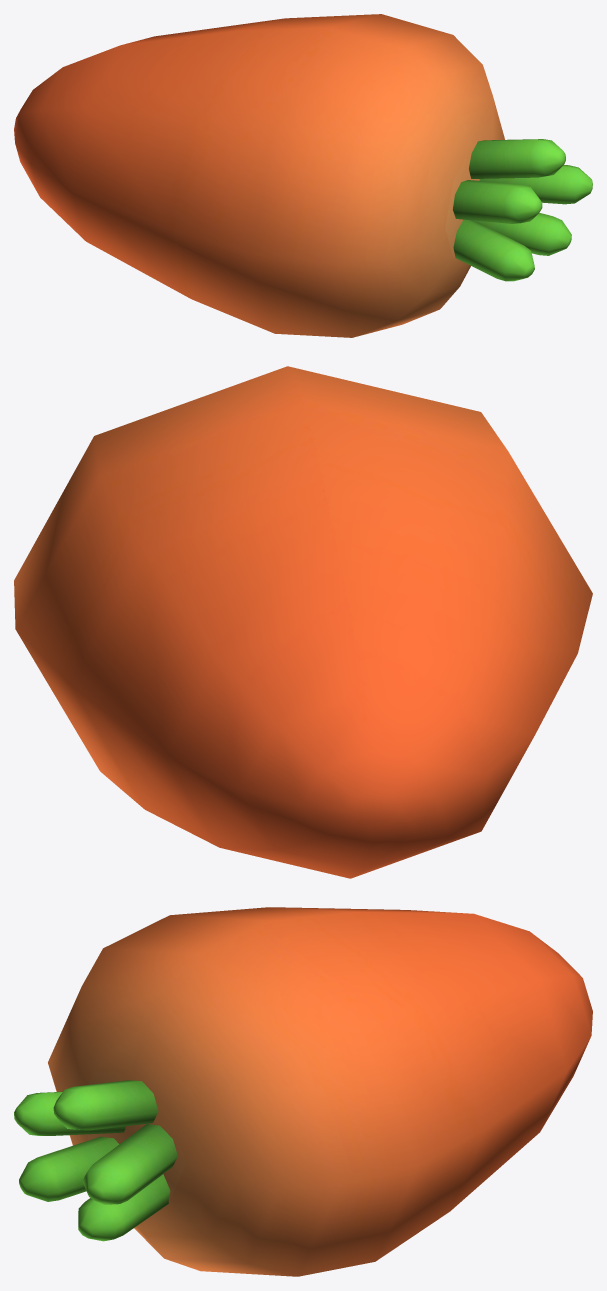
File: carrot.fbx
3 views of the same model, one above another, from view 1: azimuth 30°, elevation 25°; view 2: azimuth 150°, elevation 25°; view 3: azimuth 270°, elevation 25° (orthographic). The views are drawn at different scales.
Parts seen in each view (by area): view 1: carrot; view 2: carrot; view 3: carrot.
Part boxes in pixels (x1=…): carrot: x1=14, y1=14, x2=592, y2=337; carrot: x1=14, y1=366, x2=592, y2=878; carrot: x1=14, y1=907, x2=592, y2=1276.
Bounding box in the file's own units: 0.2532 × 0.1754 × 0.275.
